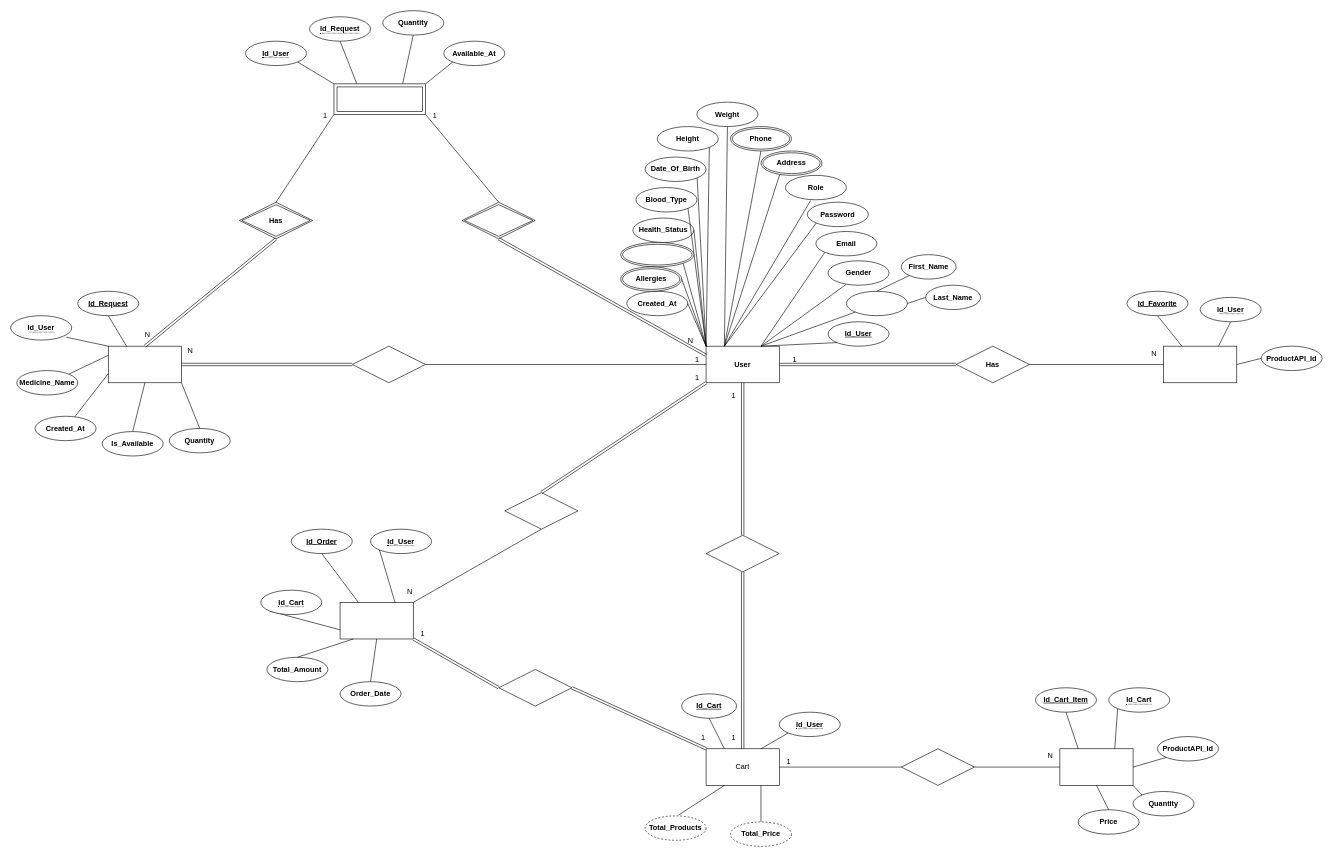
The diagram is 1333 pixels wide and 857 high, and some of its shapes have lost their labels. Each missing label, with the centre of its shape:
Based On: the point at 535,687
Cart_Items: the point at 1096,766
Chronic_Diseases: the point at 657,254
contain: the point at 937,766
Create: the point at 541,510
Favorite: the point at 1200,364
Medicine_Availability: the point at 379,98
Medicine_Requests: the point at 144,364
Name: the point at 876,303
Order: the point at 376,620
Owns: the point at 742,553
Provides: the point at 498,220
Request: the point at 388,364
